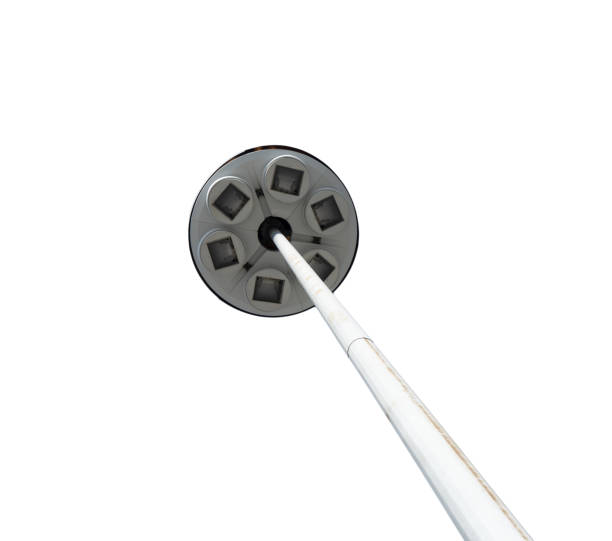light_pole: (272, 227, 536, 541)
